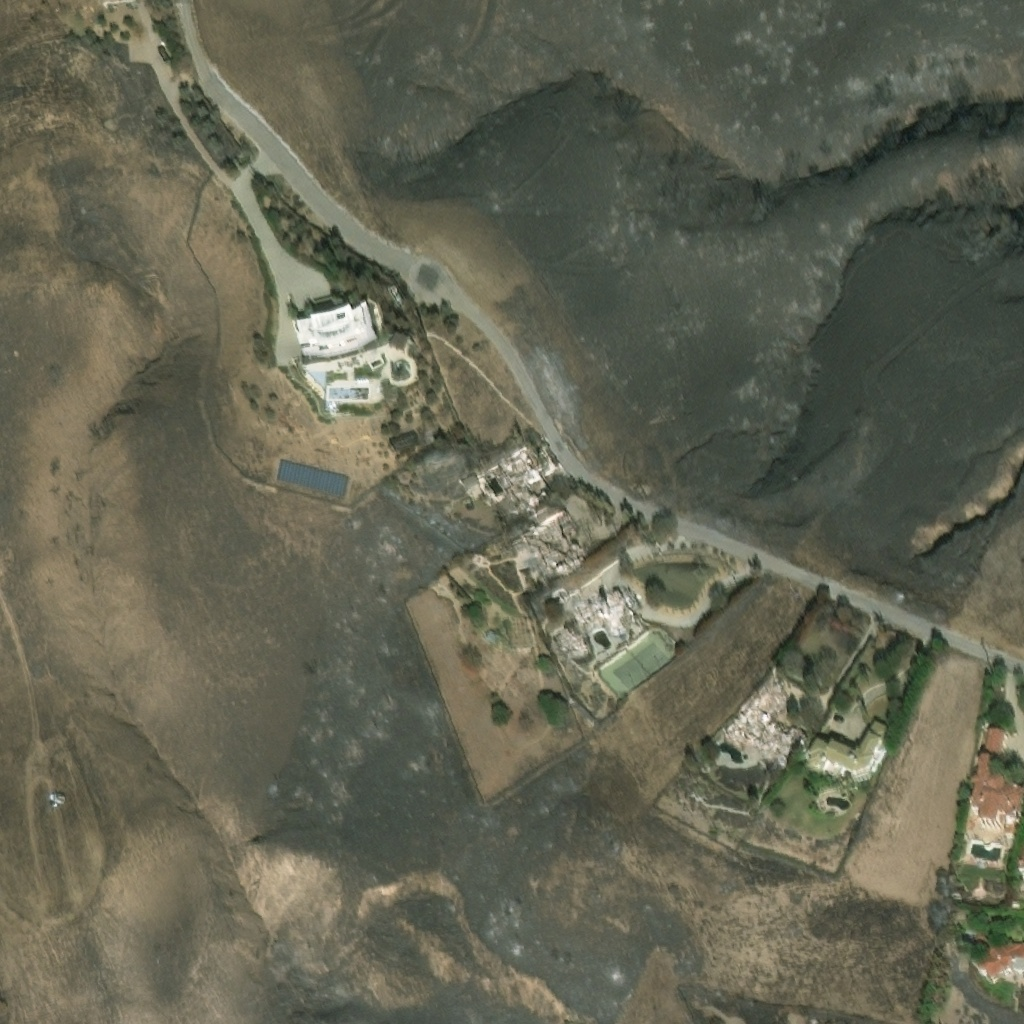0 no-damage: (968, 721, 1023, 841), (803, 718, 890, 781), (979, 942, 1023, 982), (461, 471, 479, 487)
1 minor-damage: (296, 303, 377, 356)
3 destroyed: (718, 676, 808, 770), (512, 506, 583, 574), (492, 447, 550, 511), (573, 580, 635, 626), (555, 623, 586, 651), (549, 583, 567, 600), (484, 631, 499, 645)
4 un-classified: (971, 929, 988, 946)
